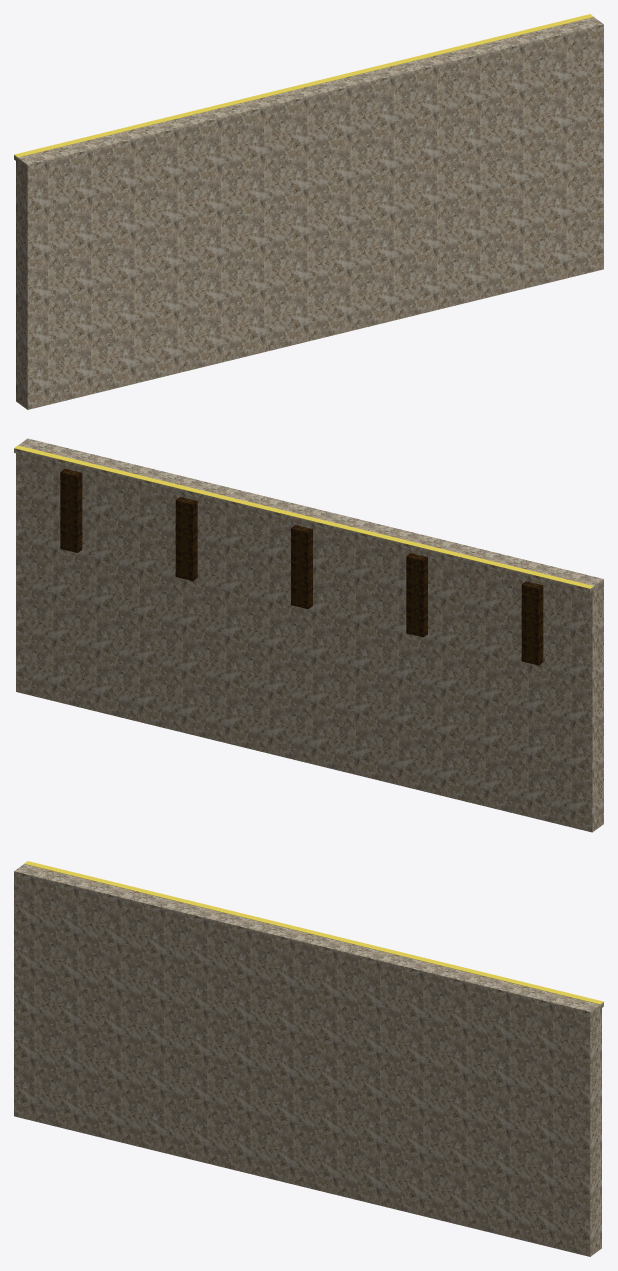
File: quay-wall.loc-v1.lod1.glb
3 renders of one model, top to bottom at view 1: azimuth 30°, elevation 25°; view 2: azimuth 150°, elevation 25°; view 3: azimuth 330°, elevation 25°, orthographic.
Visible parts, largest first — view 1: quay-wall; view 2: quay-wall; view 3: quay-wall.
Boxes of the visible parts, x1,y1,x2,y2 form: quay-wall: (14,14,603,409); quay-wall: (14,438,603,832); quay-wall: (14,861,603,1256).
Bounding box in the file's own units: 40 × 16.27 × 1.95.
Materials: 3 (2 with a texture image).
